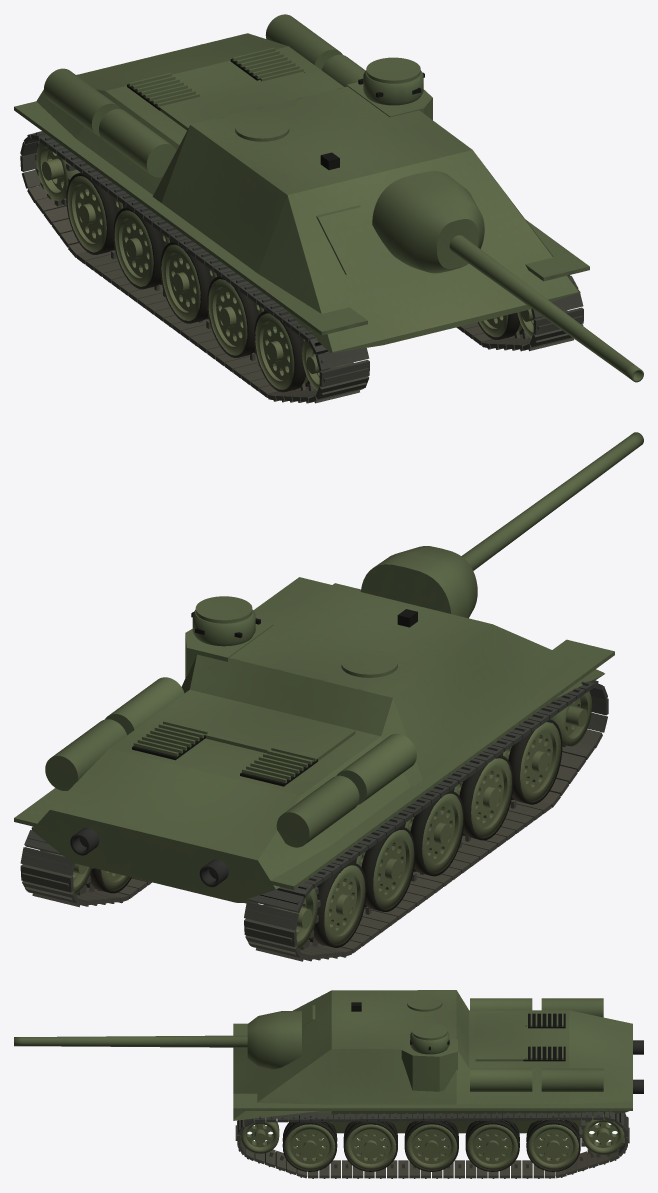
The picture shows the model from 3 angles, top to bottom: view 1: azimuth 30°, elevation 25°; view 2: azimuth 150°, elevation 25°; view 3: azimuth 270°, elevation 25°; orthographic projection. The views are drawn at different scales.
Parts seen in each view (by area): view 1: HullGeometry, TrackLeft, D10SCastMantlet, Fender, EngineAccessPanel, GunBarrel, Wheel_-1_4_1, Wheel_-1_3_1, DriverHatch, Wheel_-1_2_1, Wheel_-1_0_1, Wheel_-1_1_1 (+13 smaller); view 2: HullGeometry, TrackLeft, Fender, EngineAccessPanel, D10SCastMantlet, TrackRight, GunBarrel, Wheel_-1_3_1, Wheel_-1_2_1, Wheel_-1_4_1, Wheel_-1_1_1, Wheel_-1_0_1 (+11 smaller); view 3: HullGeometry, TrackRight, Fender.001, D10SCastMantlet, GunBarrel, EngineAccessPanel, Wheel_1_4_1, Wheel_1_3_1, Wheel_1_1_1, Wheel_1_2_1, Wheel_1_0_1, CommanderSponson (+16 smaller).
Boxes of the visible parts, x1,y1,x2,y2 form: HullGeometry: (36, 33, 580, 353); TrackLeft: (20, 131, 369, 403); D10SCastMantlet: (372, 171, 484, 273); Fender: (14, 101, 367, 335); EngineAccessPanel: (159, 71, 328, 130); GunBarrel: (449, 235, 643, 382); Wheel_-1_4_1: (66, 172, 117, 254); Wheel_-1_3_1: (113, 207, 164, 289); DriverHatch: (316, 205, 390, 275); Wheel_-1_2_1: (160, 241, 211, 323); Wheel_-1_0_1: (254, 310, 305, 392); Wheel_-1_1_1: (207, 276, 258, 357); HullGeometry: (32, 577, 604, 903); TrackLeft: (244, 680, 608, 961); Fender: (245, 639, 614, 889); EngineAccessPanel: (163, 694, 355, 761); D10SCastMantlet: (360, 546, 477, 618); TrackRight: (20, 826, 151, 907); GunBarrel: (461, 432, 643, 570); Wheel_-1_3_1: (361, 826, 415, 911); Wheel_-1_2_1: (410, 790, 464, 876); Wheel_-1_4_1: (313, 862, 366, 947); Wheel_-1_1_1: (459, 755, 513, 840); Wheel_-1_0_1: (508, 719, 562, 804); HullGeometry: (233, 990, 632, 1133); TrackRight: (235, 1111, 629, 1178); Fender.001: (233, 1093, 632, 1110); D10SCastMantlet: (247, 1010, 301, 1069); GunBarrel: (14, 1035, 247, 1047); EngineAccessPanel: (475, 1013, 527, 1061); Wheel_1_4_1: (526, 1119, 580, 1171); Wheel_1_3_1: (465, 1119, 519, 1171); Wheel_1_1_1: (343, 1119, 397, 1171); Wheel_1_2_1: (404, 1119, 458, 1171); Wheel_1_0_1: (282, 1119, 337, 1171); CommanderSponson: (401, 1039, 457, 1091).
Bounding box in the file's own units: 3.07 × 2.28 × 9.62.
1 material, 1 textured.
